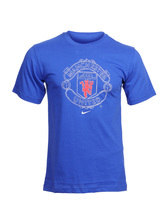clothoes: (13, 29, 160, 194)
